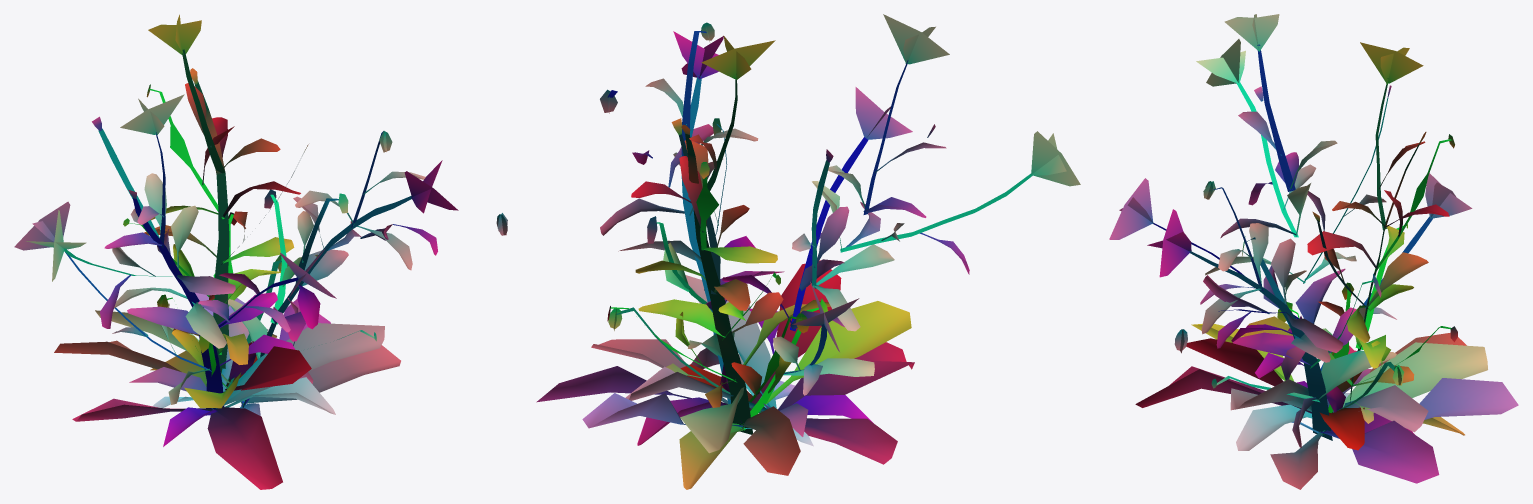
File: Field_Poppy_vmcobd0ja_Low_vmcobd0ja_VarF_LOD1.fbx
3 views of the same model, side by side, from view 1: azimuth 30°, elevation 25°; view 2: azimuth 150°, elevation 25°; view 3: azimuth 270°, elevation 25° (orthographic). The views are drawn at different scales.
Parts seen in each view (by area): view 1: _4ve1_VarF_LOD3; view 2: _4ve1_VarF_LOD3; view 3: _4ve1_VarF_LOD3.
Part boxes in pixels (x1,y1,x2,y2): _4ve1_VarF_LOD3: [14, 14, 507, 489]; _4ve1_VarF_LOD3: [536, 14, 1080, 489]; _4ve1_VarF_LOD3: [1109, 14, 1518, 489].
Size of the model in its own units: 63.47 by 50.69 by 49.26.
